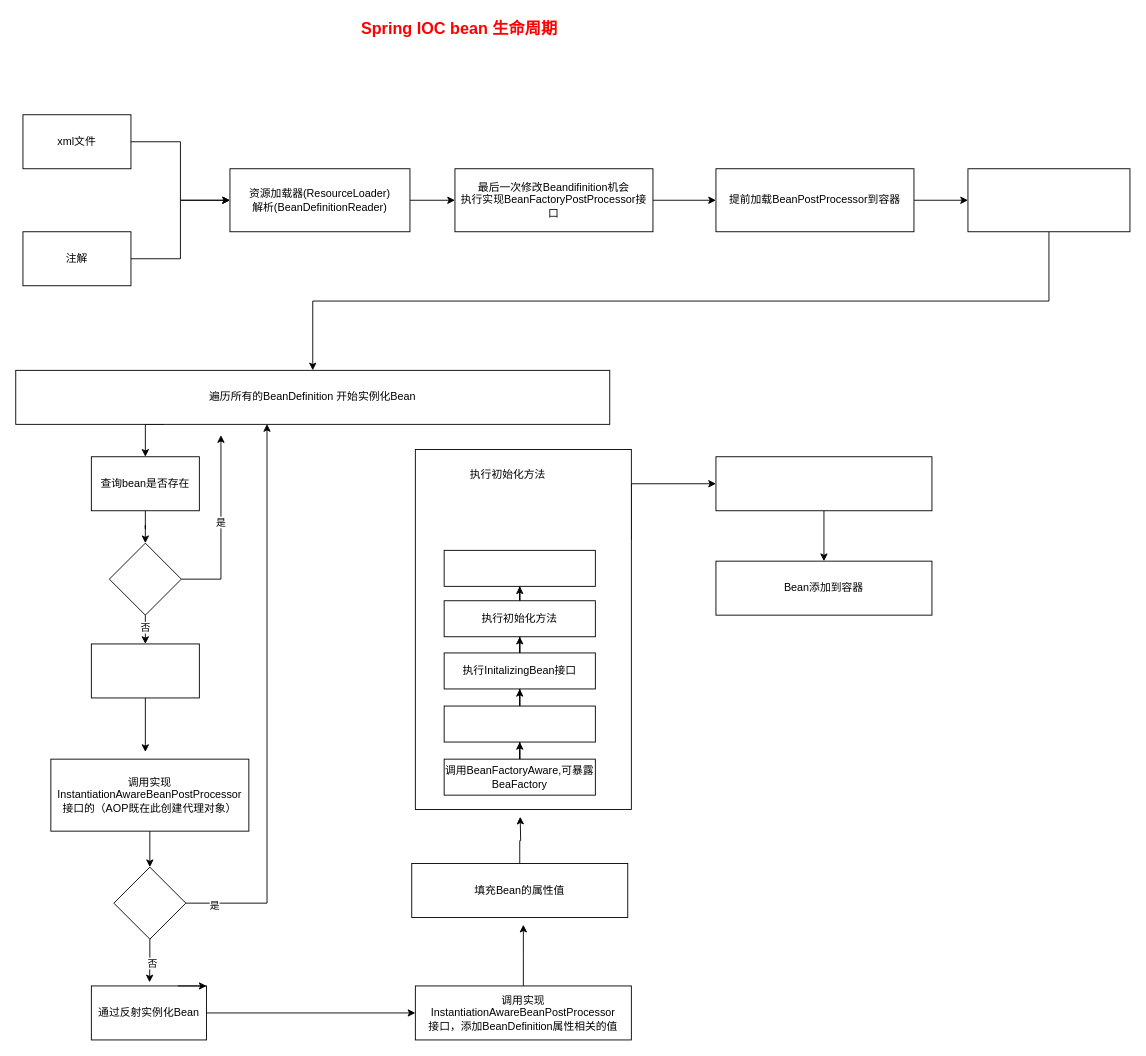
Image size: 1146x1056. Some labels were removed from this diagram. Here are the shapes that lost their labels. From the top down, the centre of each, then its label:
[1048,200]: 加载监听器到容器
[823,483]: 带销毁方法的Bean多存放一处
[144,578]: 是否存在
[519,567]: 执行BeanPostProcessor后置方法
[144,670]: 开始创建Bean
[519,723]: 执行BeanPostProcessor前置方法
[149,902]: 是否有代理对象生成
